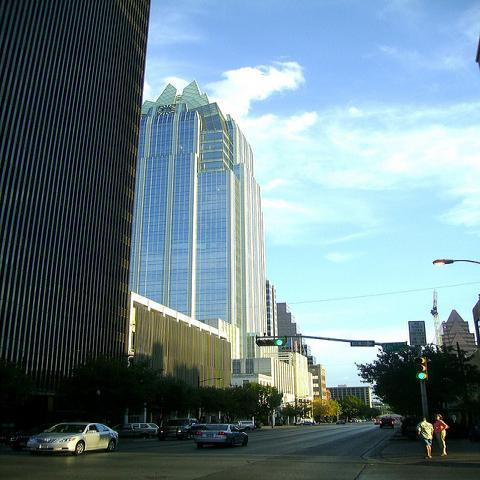car: (28, 423, 119, 455), (8, 423, 59, 452), (193, 423, 254, 447), (160, 418, 206, 440), (111, 422, 158, 438), (379, 417, 395, 429), (230, 420, 256, 426), (294, 422, 315, 426), (147, 423, 159, 429), (350, 418, 359, 424), (336, 420, 345, 424), (375, 420, 379, 425)
